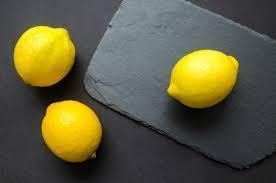lemon: (167, 49, 239, 109), (13, 25, 76, 87), (42, 100, 101, 163)
